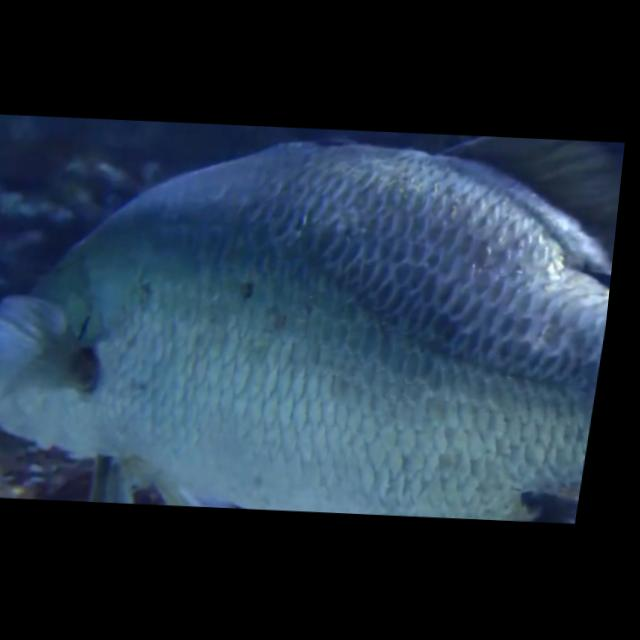Seabass: (0, 120, 627, 527)
